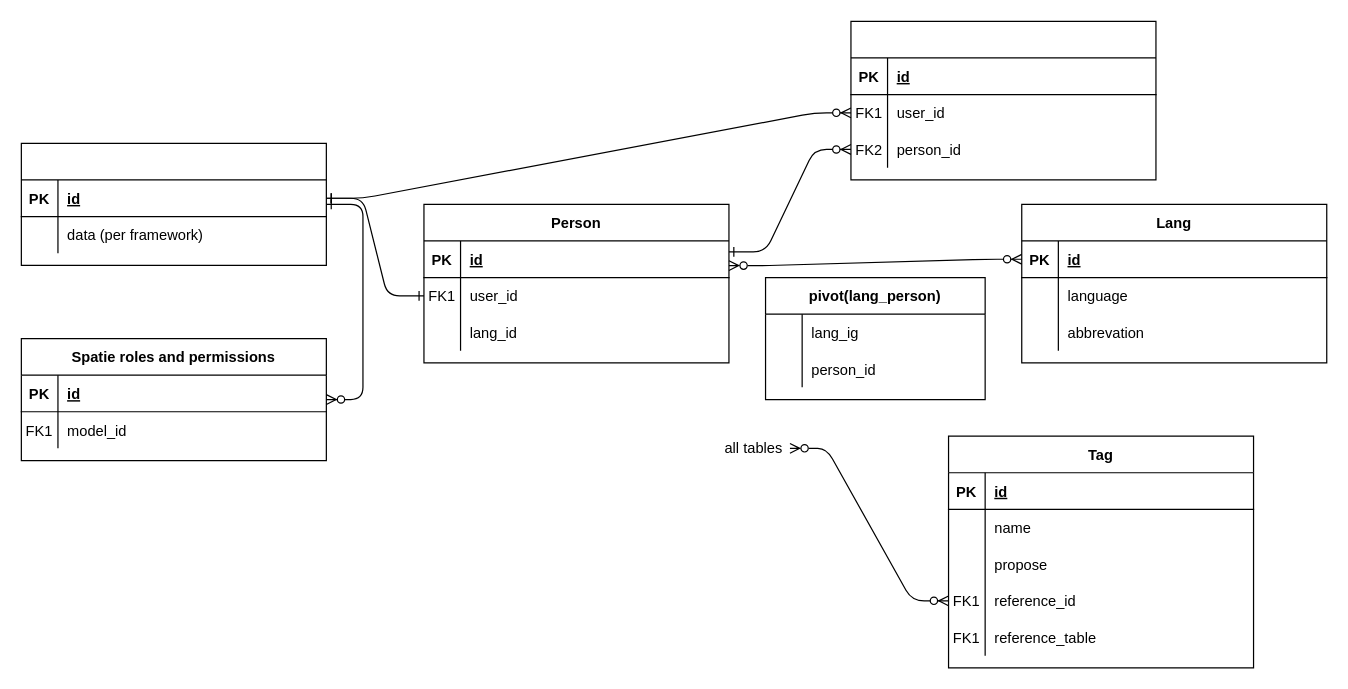
The diagram is 1348 pixels wide and 689 high, and some of its shapes have lost their labels. The shapes that lost their labels are listed below. From the top down, each one's box as (x1, y1, x2, y2) in pixels, then its label:
(850, 20, 1156, 180): Image
(20, 142, 326, 265): User
